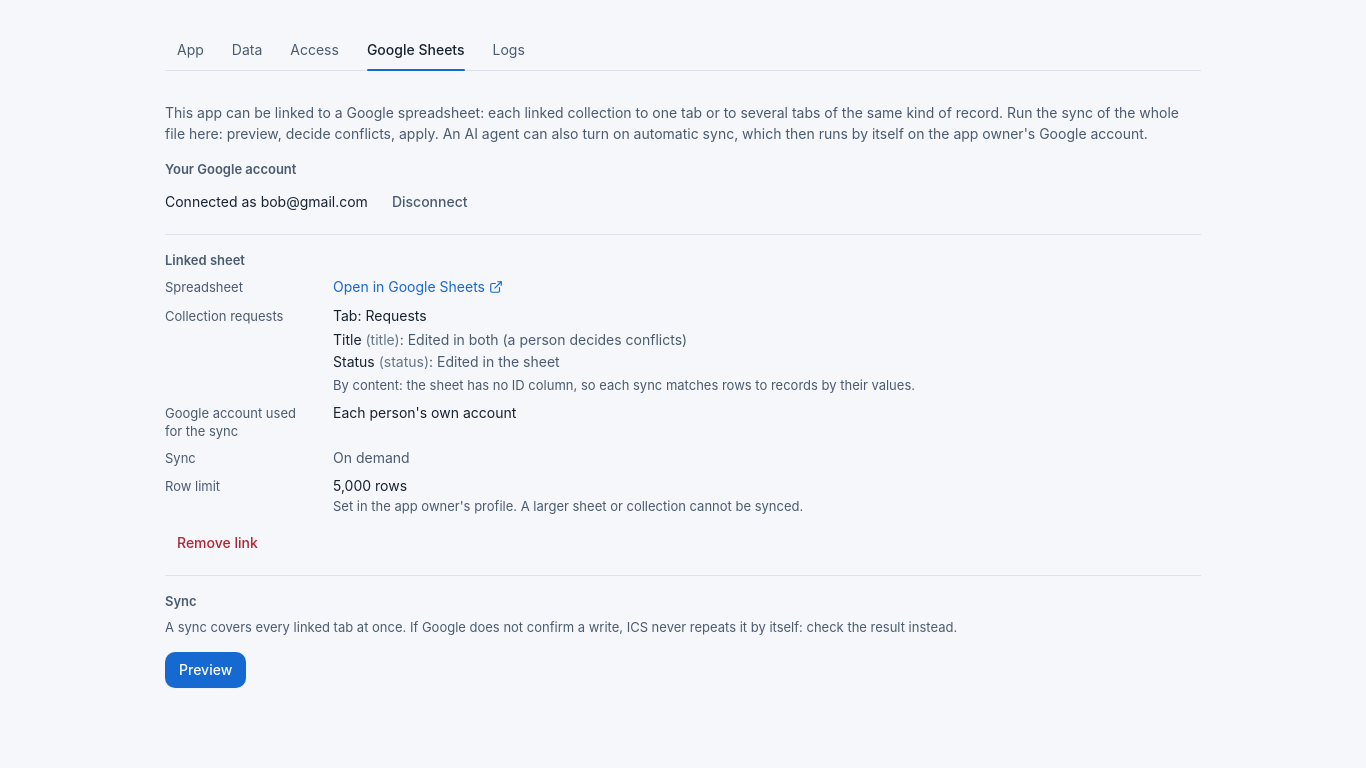
Google Sheets tab, the sync › asks the owner for access when the Google account cannot open the sheet
(page scrolled)
Click the button "Preview" at (206, 670), box [165, 652, 246, 688]
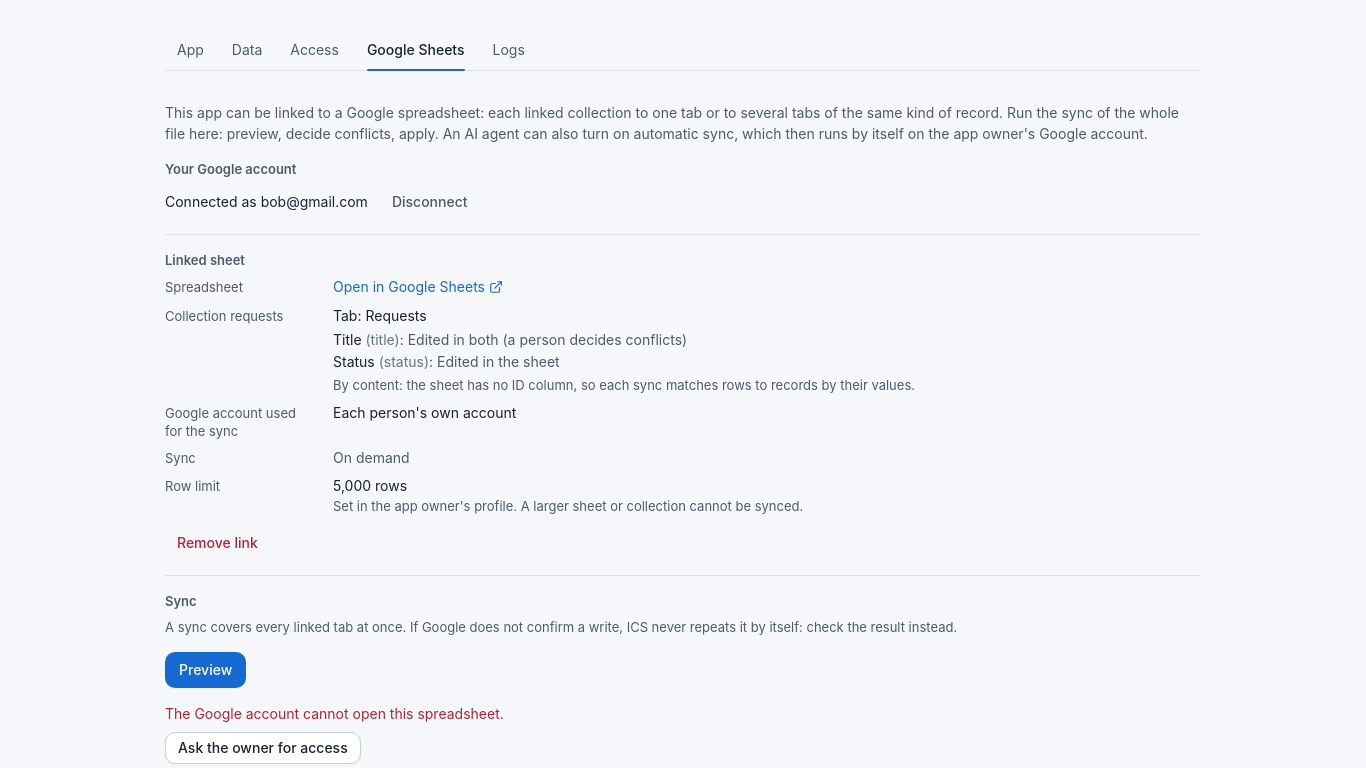
Expected: the text "The Google account cannot open this spreadsheet." is shown, [165, 705, 504, 722]
Click the button "Ask the owner for access" at (263, 748), box [165, 732, 361, 764]
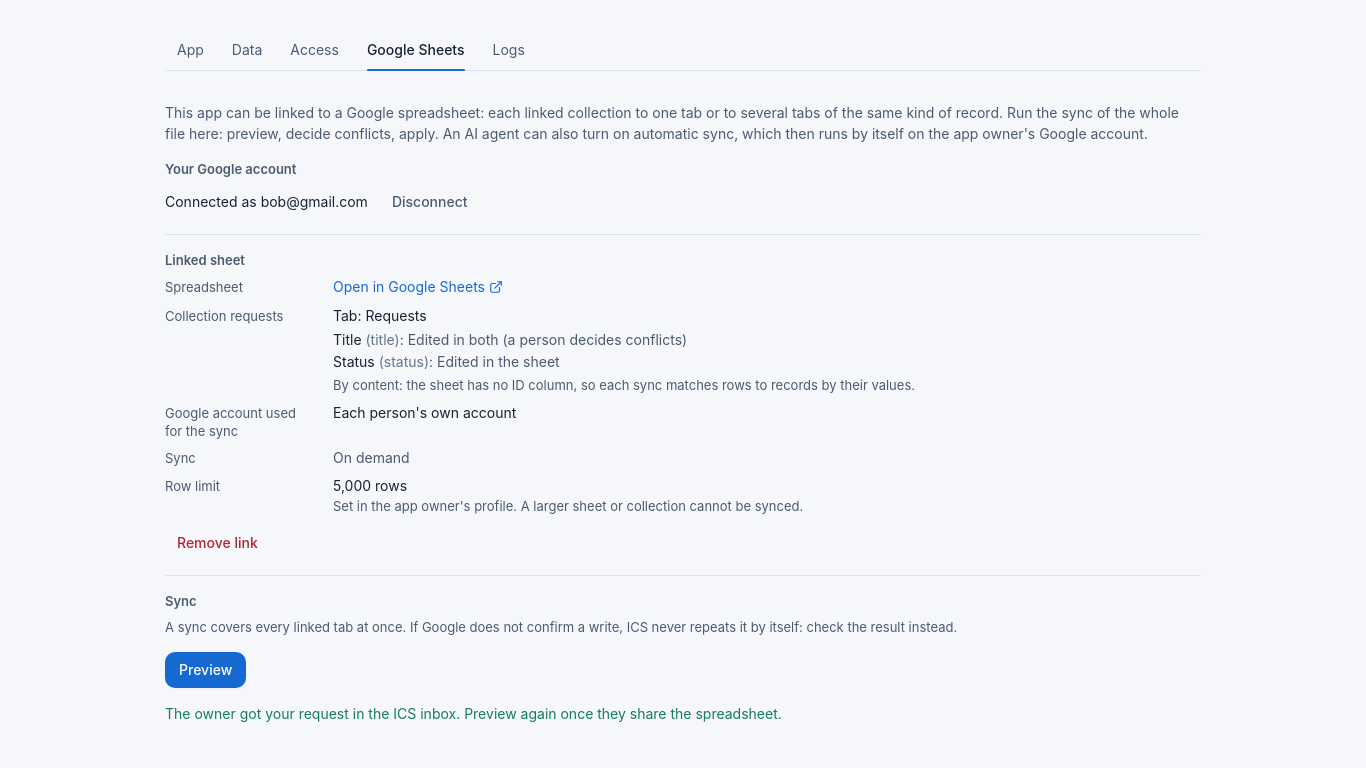
Expected: the text "The owner got your request" is shown, [165, 705, 782, 722]
